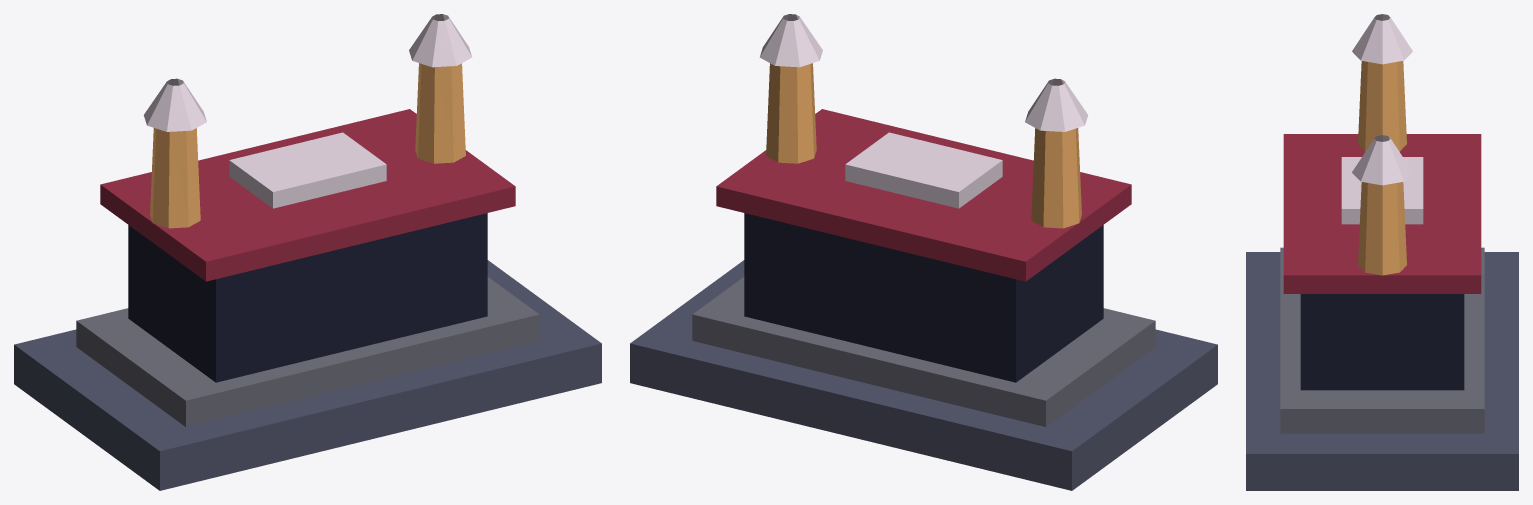
File: dojo_ritual_altar.obj
The picture shows the model from 3 angles, left to right: view 1: azimuth 30°, elevation 25°; view 2: azimuth 150°, elevation 25°; view 3: azimuth 270°, elevation 25°; orthographic projection. The views are drawn at different scales.
Parts seen in each view (by area): view 1: dojo_ritual_altar; view 2: dojo_ritual_altar; view 3: dojo_ritual_altar.
Boxes of the visible parts, bbox=[...] form: dojo_ritual_altar: bbox=[14, 14, 601, 490]; dojo_ritual_altar: bbox=[630, 14, 1217, 490]; dojo_ritual_altar: bbox=[1246, 14, 1518, 490].
Size of the model in its own units: 7 by 5.05 by 4.
